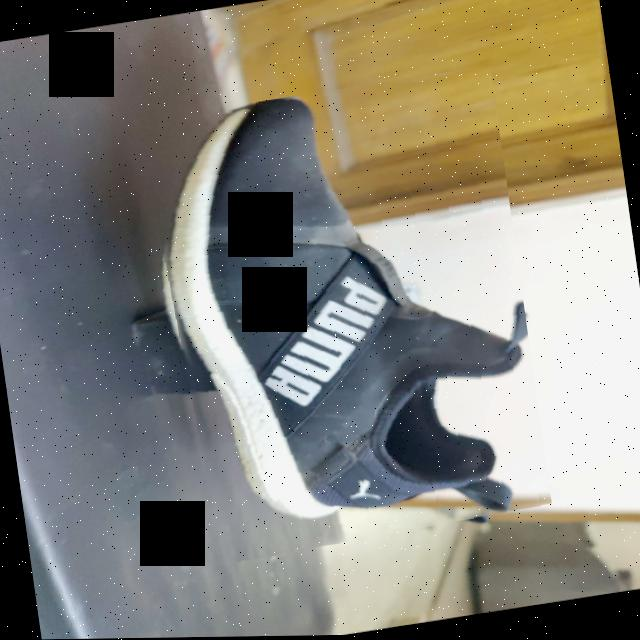shoe: (137, 67, 554, 569)
